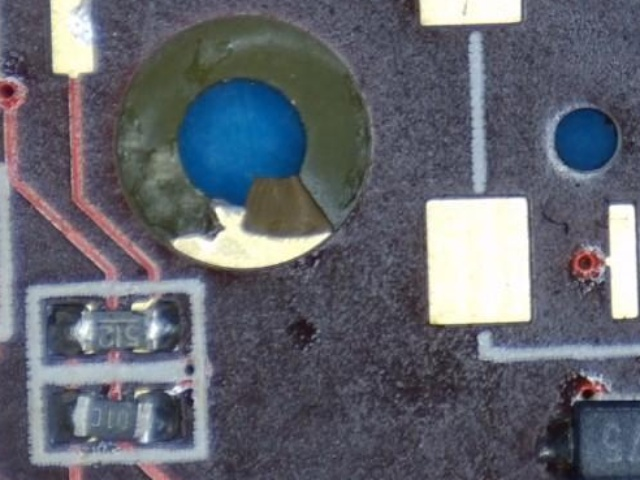pcb_defect: (114, 17, 370, 269)
